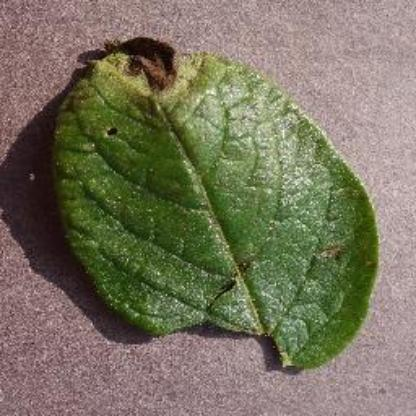Late-Blight: (47, 34, 384, 374)
